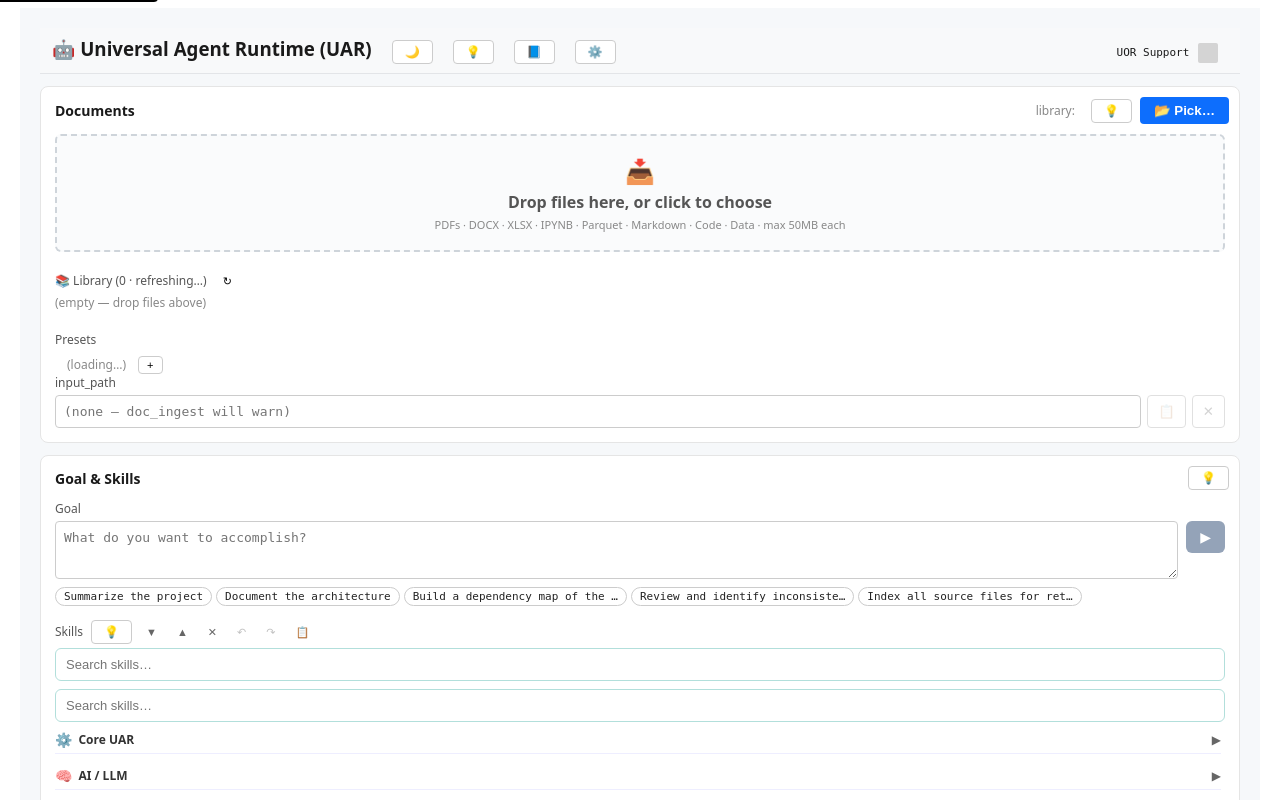
it: UARPanel › Input Path Selection › should clear input path
Type "/test/path" into the field with placeholder "(none — doc_ingest will warn)" at coordinates (598, 412), box [55,395,1141,428]
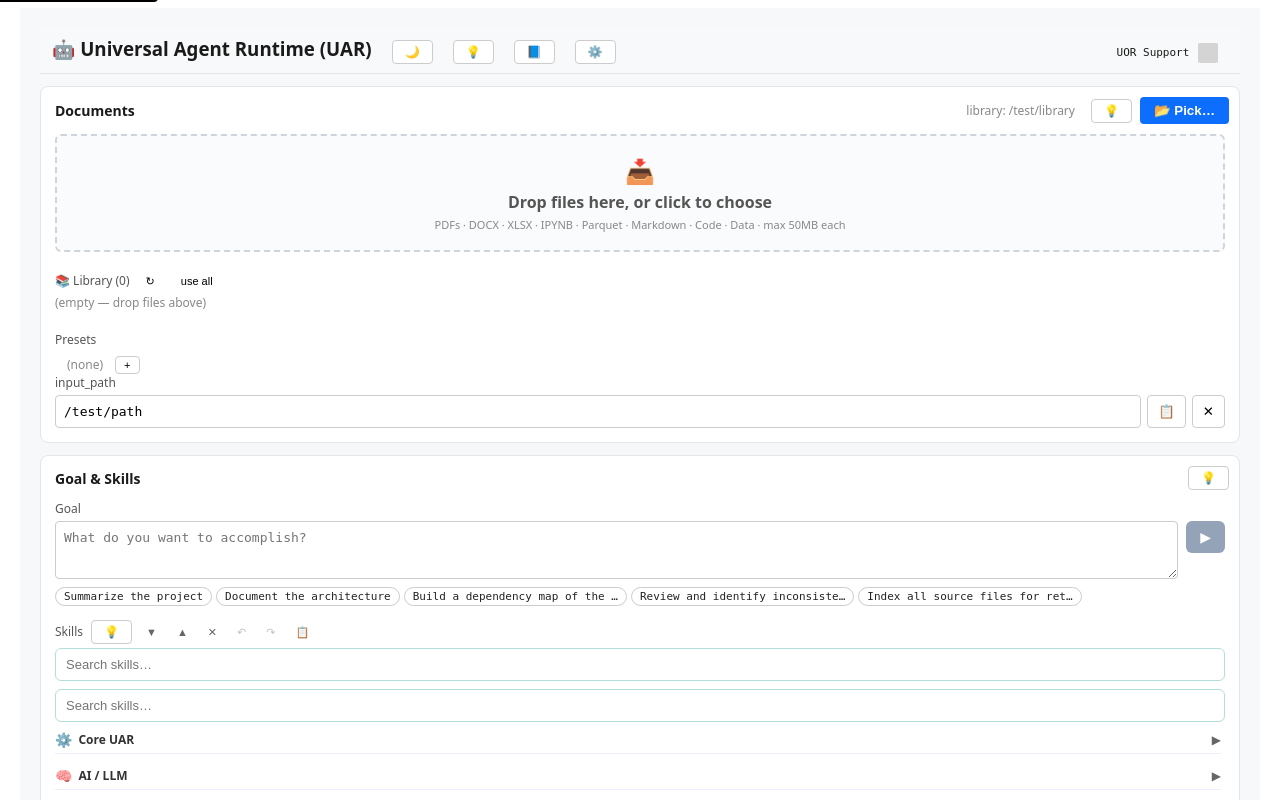
Click the 1st button titled "Clear input path" at coordinates (1208, 412), box [1192,395,1225,428]
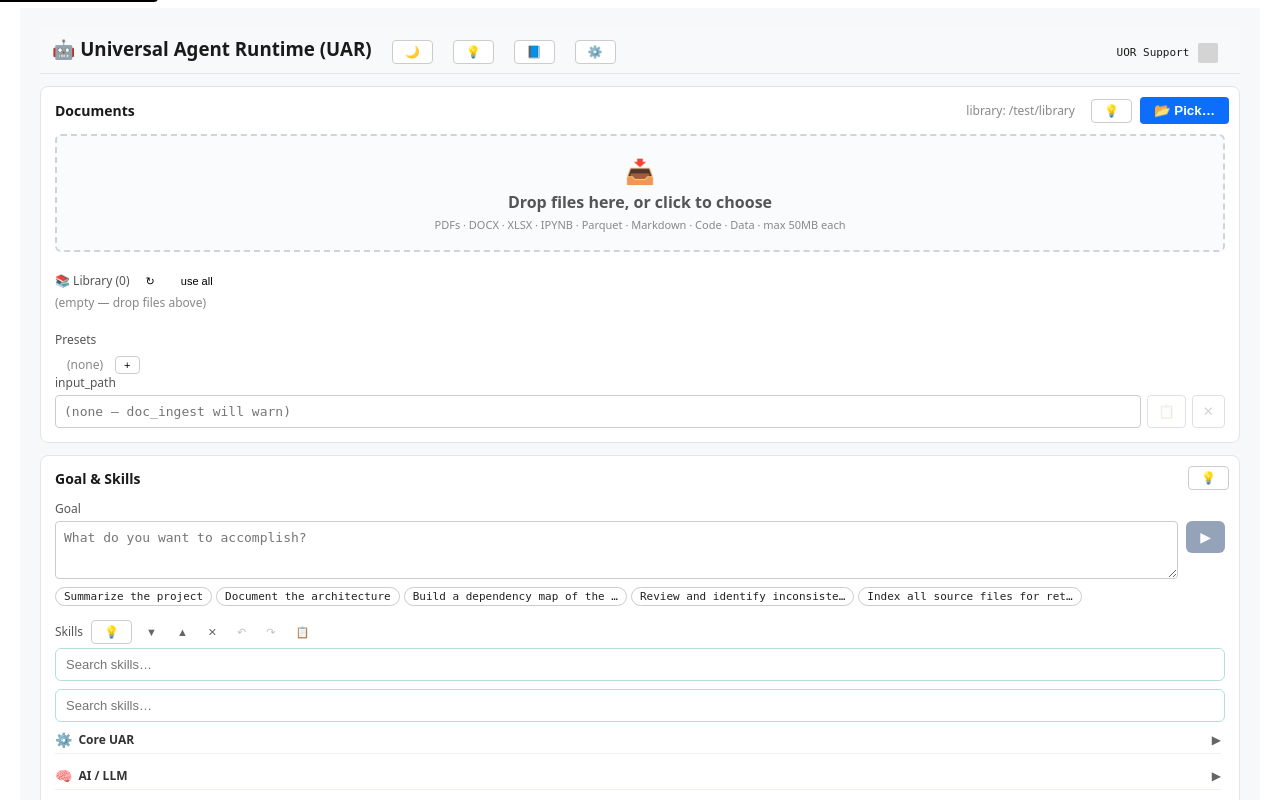
Result: the field with placeholder "(none — doc_ingest will warn)" is empty at [55,395,1141,428]
